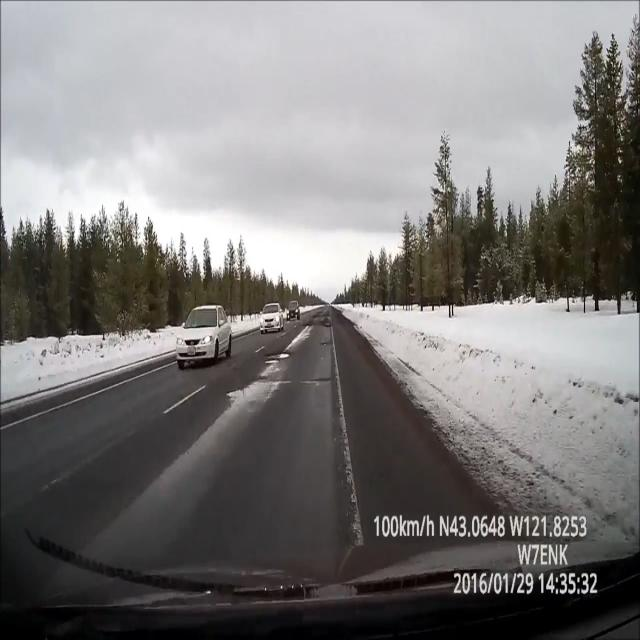Pothole: (262, 346, 292, 371)
